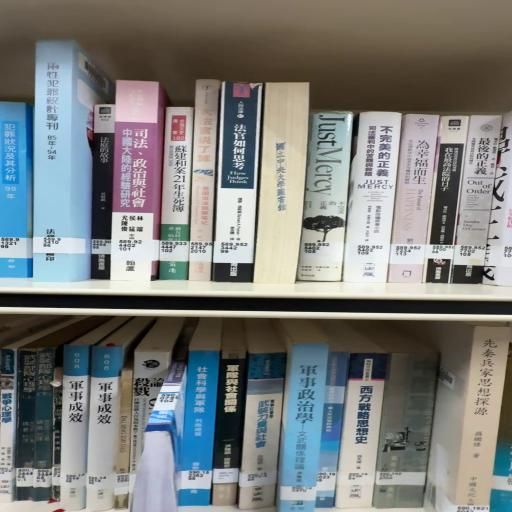backward: (258, 86, 315, 289)
book: (36, 38, 119, 282), (111, 85, 163, 287), (212, 79, 263, 284), (303, 115, 359, 288), (237, 354, 285, 512), (161, 106, 194, 285), (188, 103, 217, 285)
